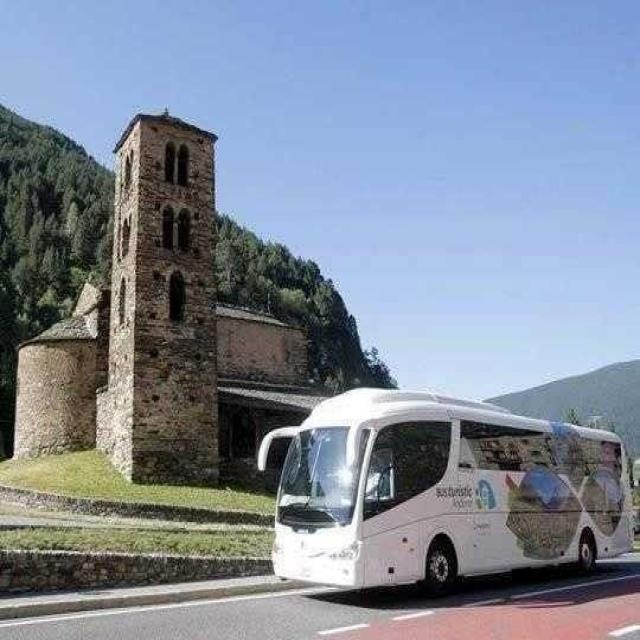Bus: (257, 381, 640, 610)
